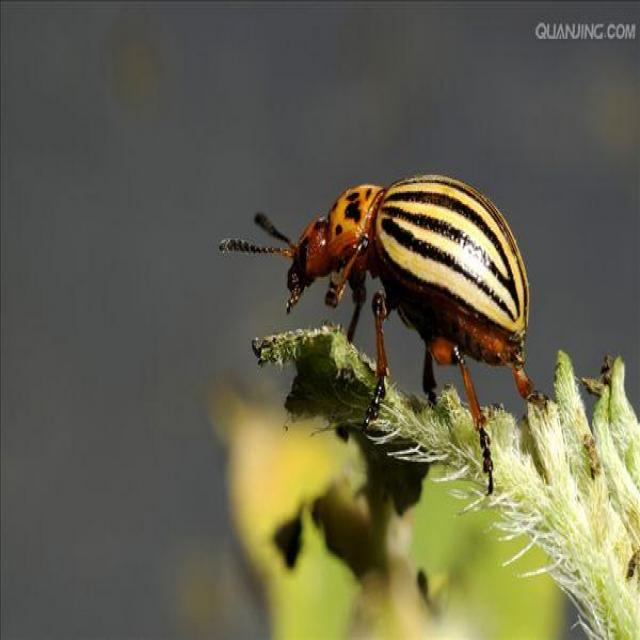ShuCaiHuaBanChong-Grown-: (234, 135, 545, 377)
